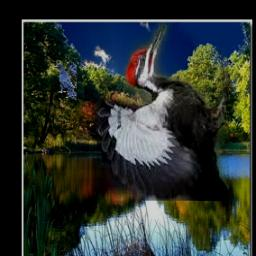Crow: (55, 63, 78, 101)
Woodpecker: (97, 22, 230, 201)
